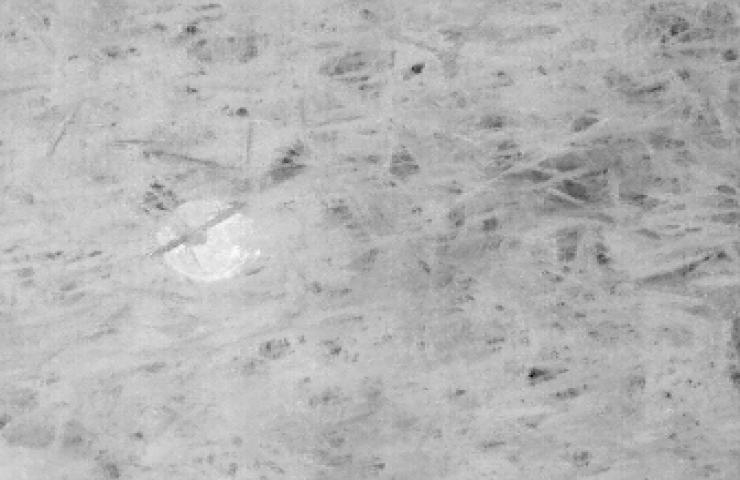landmines: (156, 198, 268, 286)
